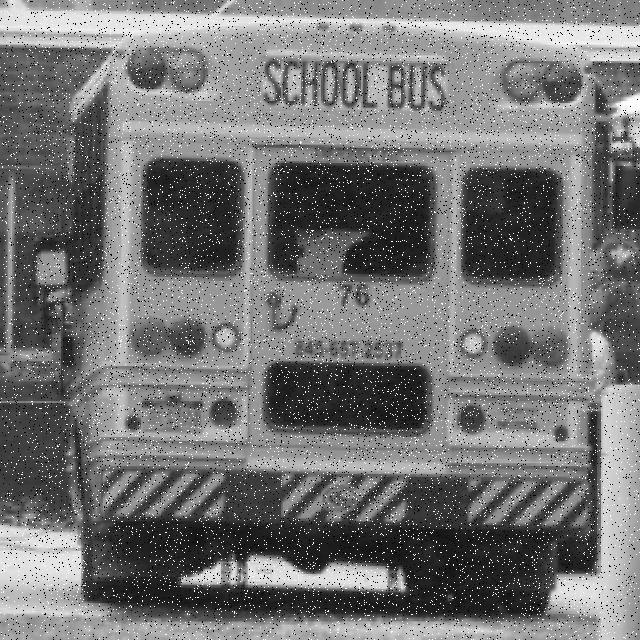Bus- Small: (34, 19, 595, 616)
